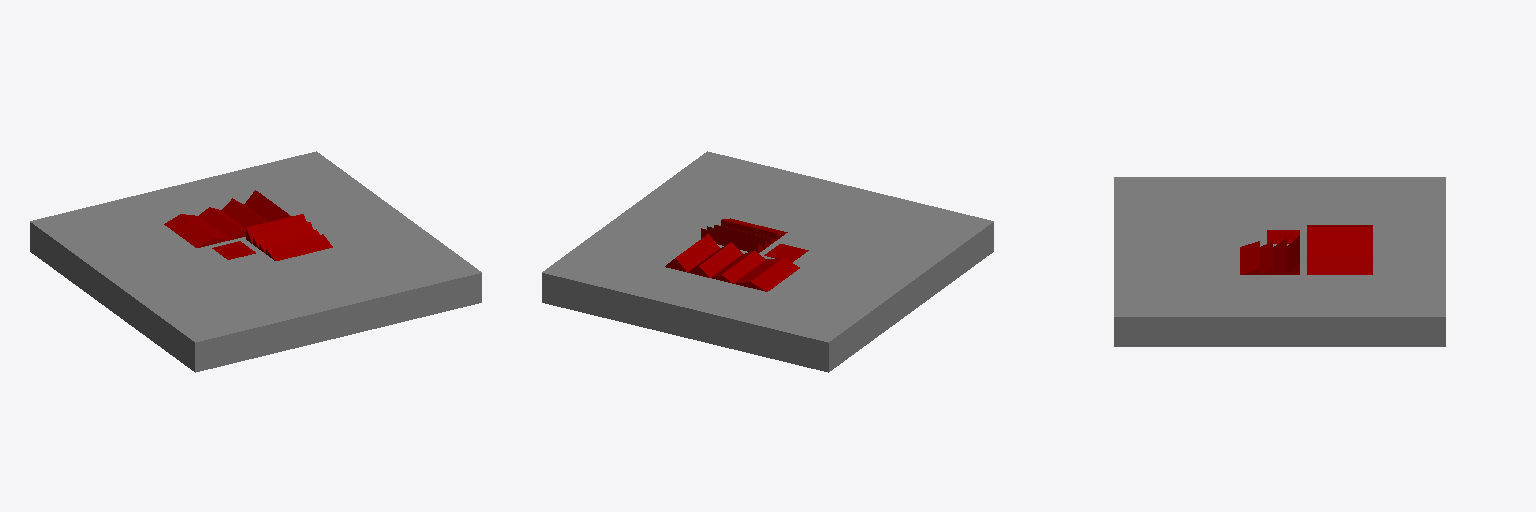
Rendered from peaks2.obj.
The picture shows the model from 3 angles: view 1: azimuth 30°, elevation 25°; view 2: azimuth 150°, elevation 25°; view 3: azimuth 270°, elevation 25°; orthographic projection.
Parts seen in each view (by area): view 1: Box001, Connect; view 2: Box001, Connect; view 3: Box001, Connect.
Part boxes in pixels (x1,y1,x2,y2): Box001: (30,151,481,372); Connect: (164,190,332,260); Box001: (542,151,993,372); Connect: (665,218,799,291); Box001: (1114,177,1445,346); Connect: (1240,225,1372,274).
Bounding box in the file's own units: 0.5 × 0.07 × 0.5.